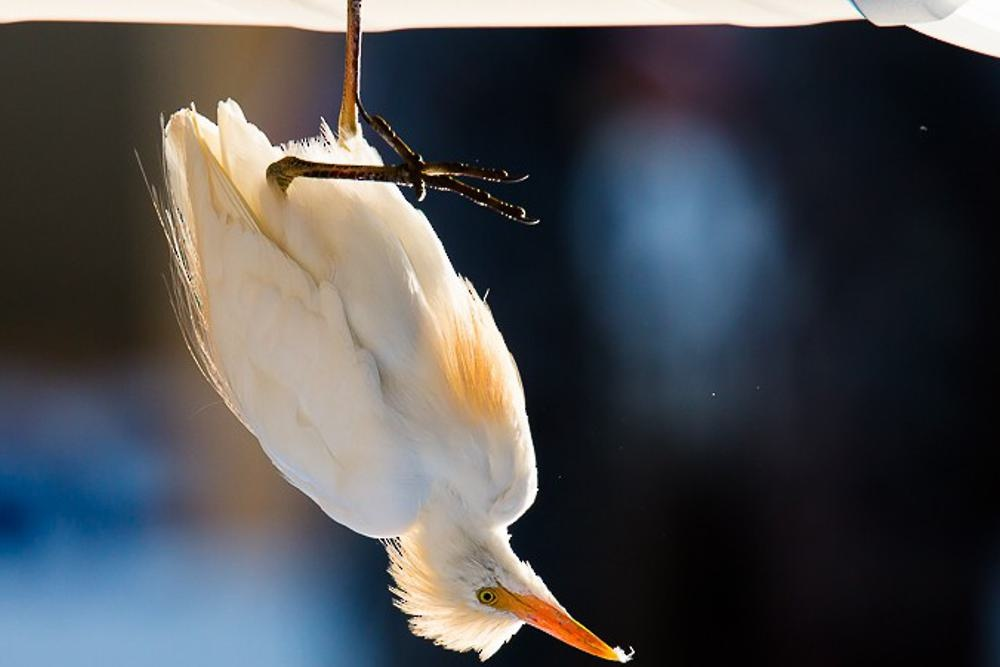egret: (163, 1, 637, 666)
